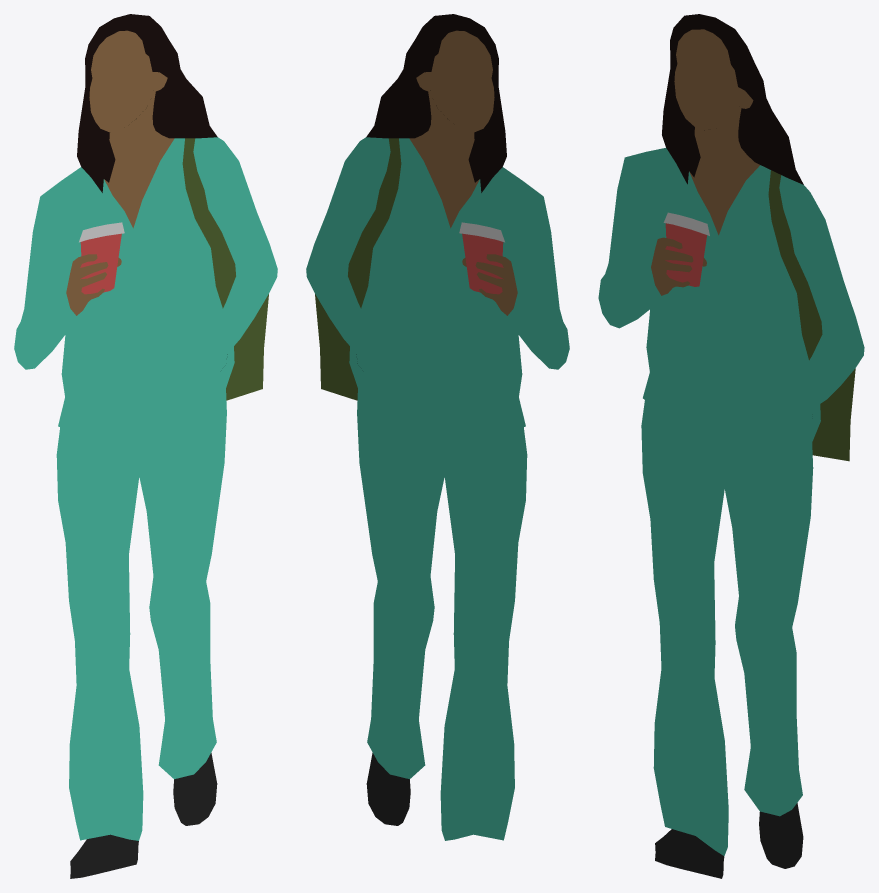
File: 2D_Woman_CoffeeCup-scrubs.fbx
3 renders of one model, left to right at view 1: azimuth 30°, elevation 25°; view 2: azimuth 150°, elevation 25°; view 3: azimuth 330°, elevation 25°, orthographic.
Visible parts, largest first — view 1: Mesh01; view 2: Mesh01; view 3: Mesh01.
Boxes of the visible parts, x1=… form: Mesh01: x1=14, y1=14, x2=277, y2=878; Mesh01: x1=306, y1=14, x2=569, y2=840; Mesh01: x1=598, y1=14, x2=864, y2=878.
Size of the model in its own units: 32.39 by 100 by 9.76e-14.
